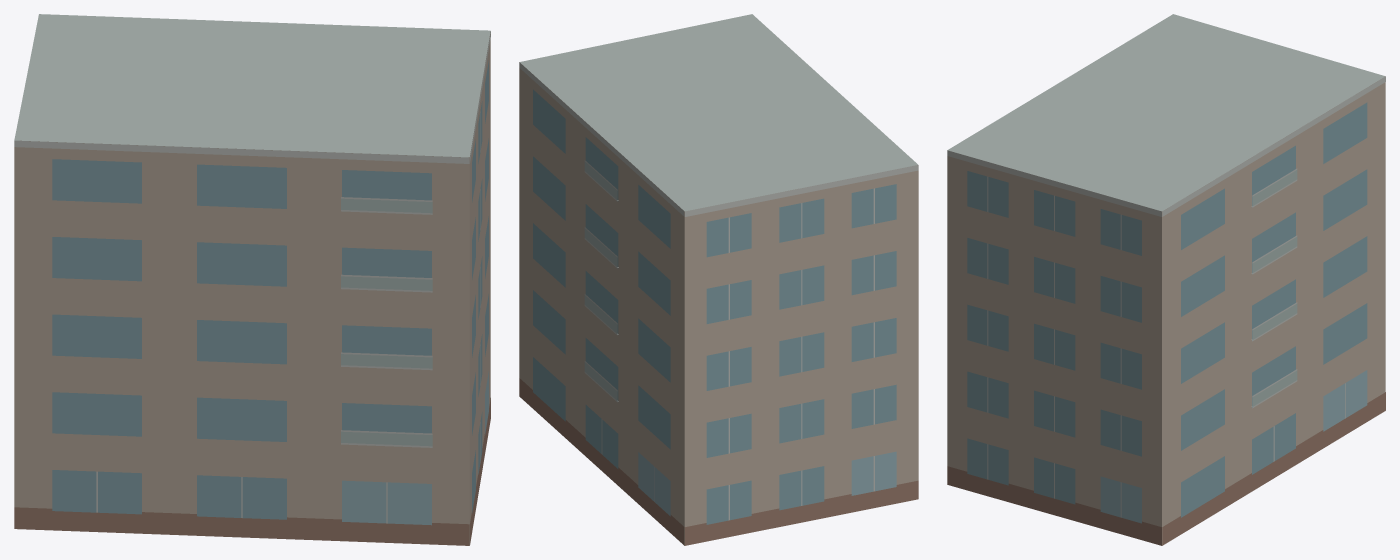
File: survey-upis-32725941.glb
3 views of the same model, side by side, from view 1: azimuth 30°, elevation 25°; view 2: azimuth 150°, elevation 25°; view 3: azimuth 270°, elevation 25° (orthographic). The views are drawn at different scales.
Parts seen in each view (by area): view 1: survey-upis-32725941.tmp; view 2: survey-upis-32725941.tmp; view 3: survey-upis-32725941.tmp.
Part boxes in pixels (<box>): survey-upis-32725941.tmp: <box>14,14,490,545</box>; survey-upis-32725941.tmp: <box>519,14,918,545</box>; survey-upis-32725941.tmp: <box>947,14,1385,545</box>.
Size of the model in its own units: 18.24 by 14.4 by 17.12.
